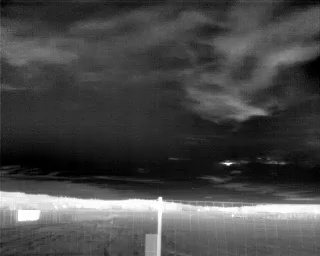AIRPLANE: (219, 158, 237, 168)
